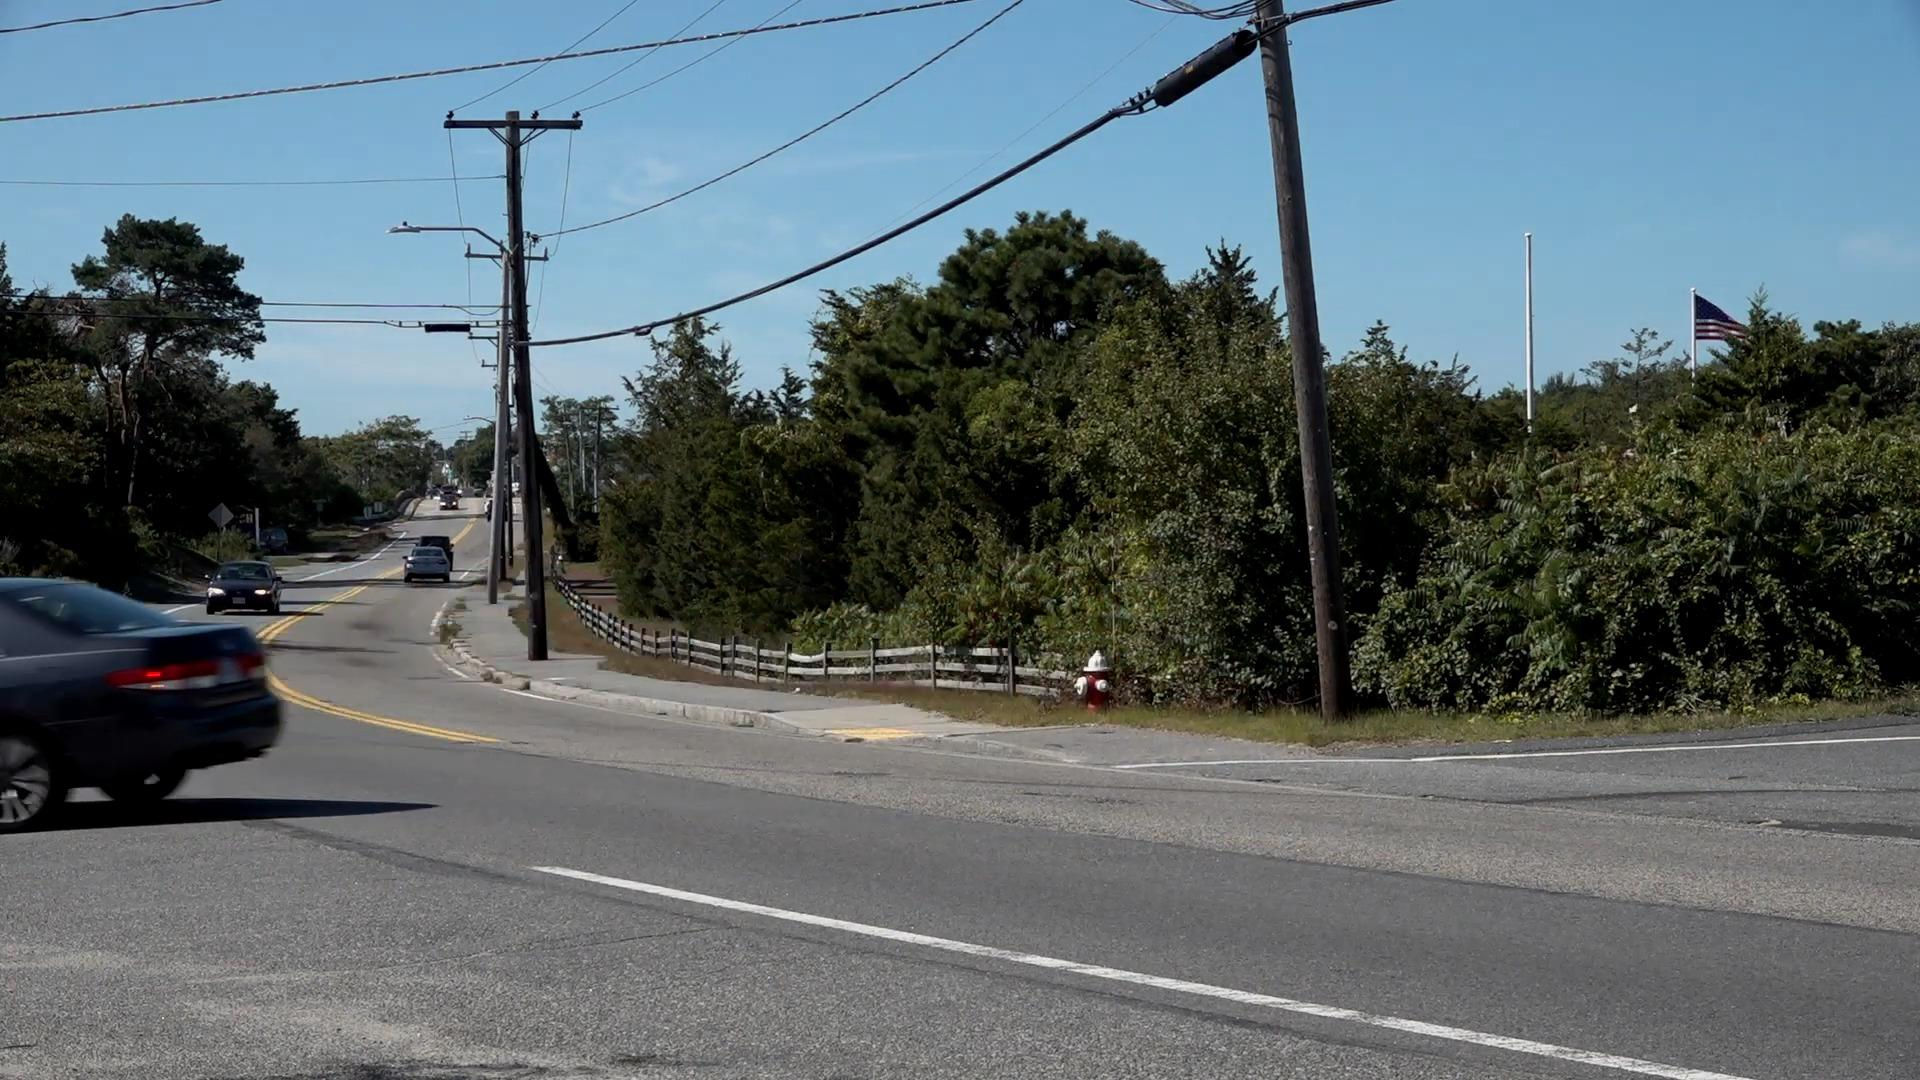sedans: (0, 576, 286, 827), (401, 549, 455, 583)
